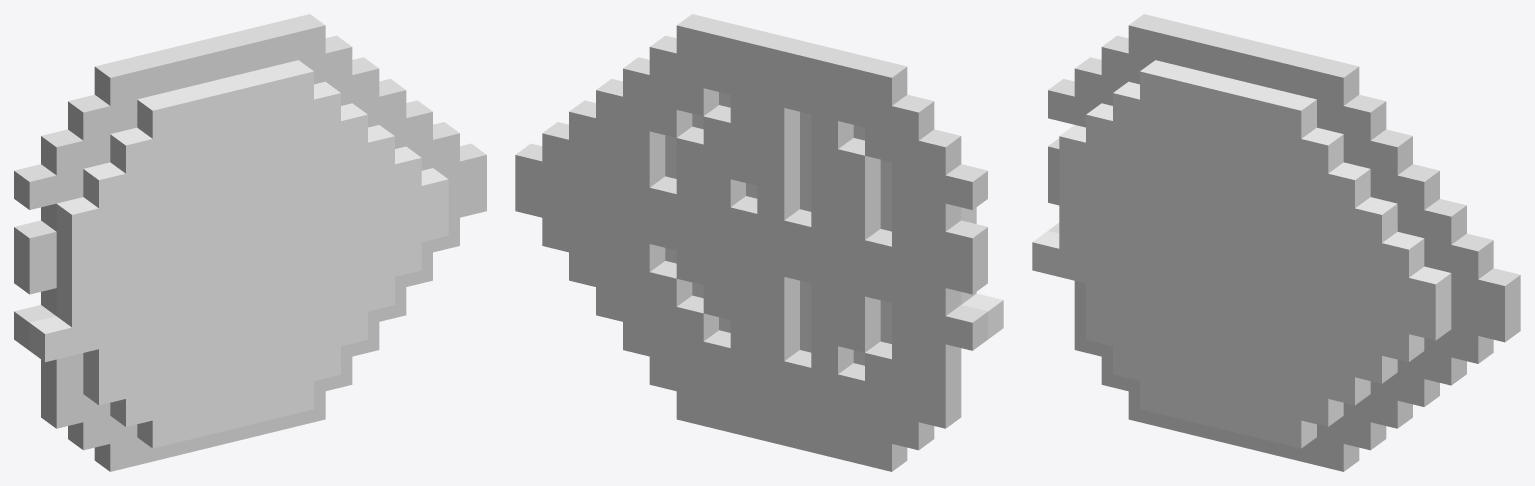
Rendered from fox-1.obj.
3 renders of one model, left to right at view 1: azimuth 30°, elevation 25°; view 2: azimuth 150°, elevation 25°; view 3: azimuth 330°, elevation 25°, orthographic.
Size of the model in its own units: 1.7 by 1.4 by 0.2.
1 material, 1 textured.
